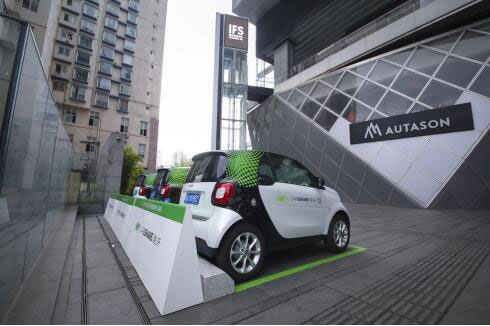car: (189, 145, 353, 255), (127, 155, 180, 198)
